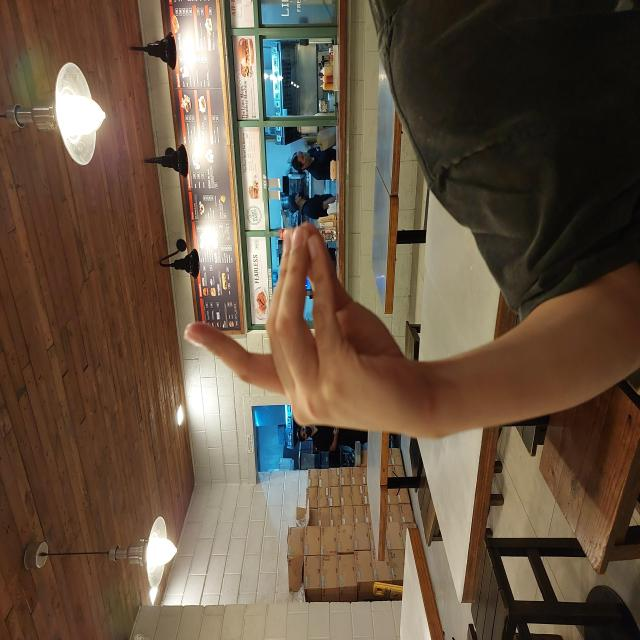D: (205, 181, 420, 435)
